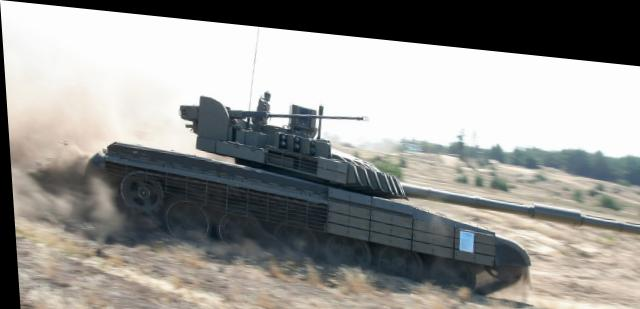tank: (83, 76, 527, 288)
